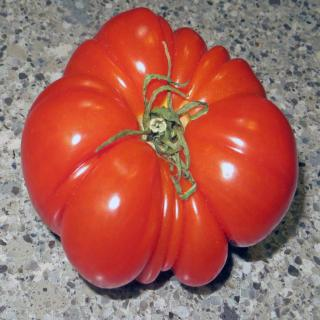tomato: (18, 6, 298, 287)
